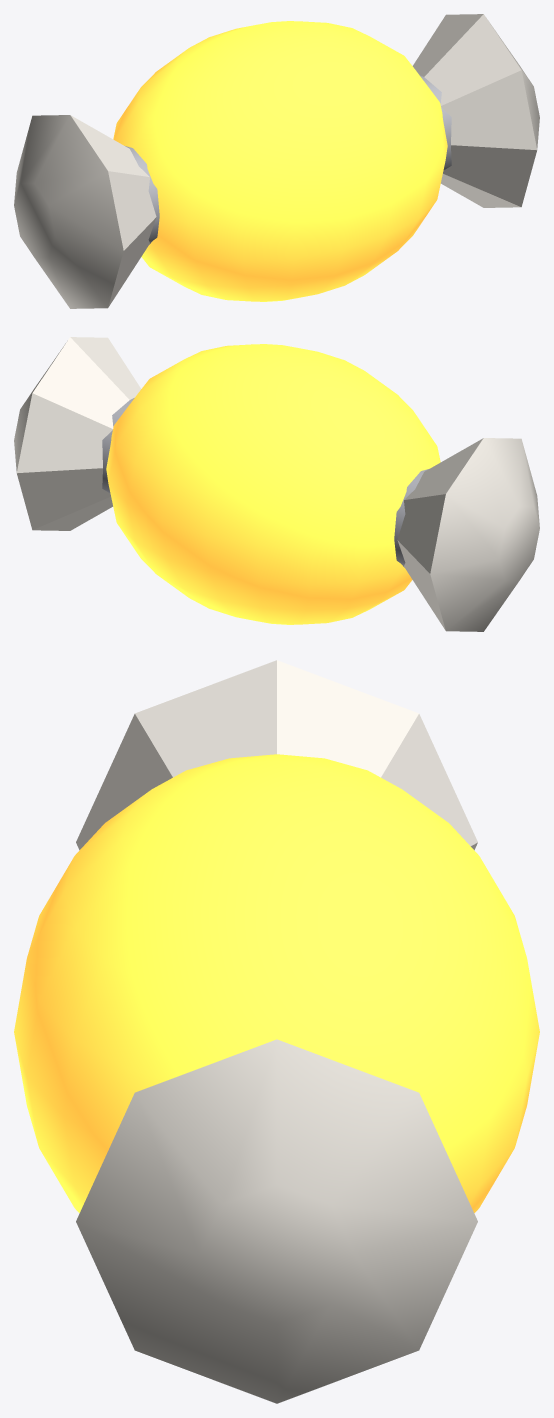
Rendered from ITEM_CandyCell_Orange.fbx.
The picture shows the model from 3 angles, top to bottom: view 1: azimuth 30°, elevation 25°; view 2: azimuth 150°, elevation 25°; view 3: azimuth 270°, elevation 25°; orthographic projection. The views are drawn at different scales.
Parts seen in each view (by area): view 1: ITEM_CandyCell_Orange; view 2: ITEM_CandyCell_Orange; view 3: ITEM_CandyCell_Orange.
Boxes of the visible parts, <box> form: ITEM_CandyCell_Orange: <box>14,14,539,308</box>; ITEM_CandyCell_Orange: <box>14,337,539,631</box>; ITEM_CandyCell_Orange: <box>14,660,539,1403</box>.
Size of the model in its own units: 0.68 by 0.34 by 0.34.
